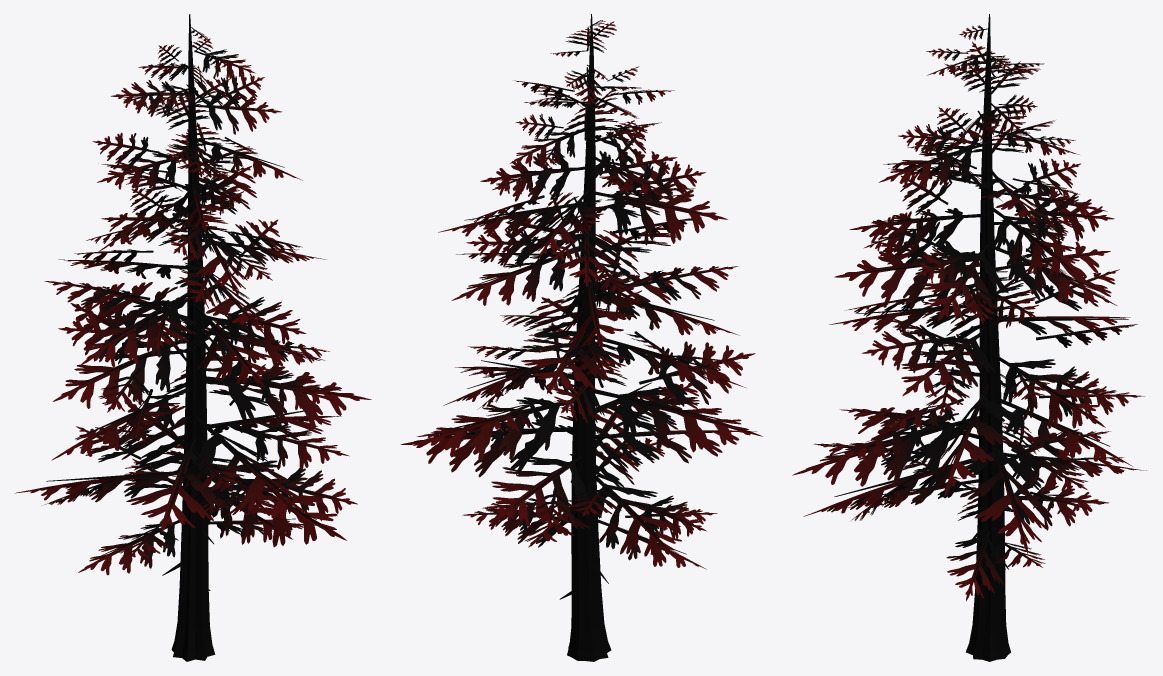
The model's file is SM_GN_Pine_C.fbx.
The picture shows the model from 3 angles, left to right: view 1: azimuth 30°, elevation 25°; view 2: azimuth 150°, elevation 25°; view 3: azimuth 270°, elevation 25°; orthographic projection.
Parts seen in each view (by area): view 1: SM_GN_Pine_C.001; view 2: SM_GN_Pine_C.001; view 3: SM_GN_Pine_C.001.
Part boxes in pixels (x1=…): SM_GN_Pine_C.001: x1=15, y1=14, x2=371, y2=661; SM_GN_Pine_C.001: x1=400, y1=14, x2=762, y2=661; SM_GN_Pine_C.001: x1=792, y1=14, x2=1146, y2=661.
Bounding box in the file's own units: 5.62 × 5.33 × 10.5.
